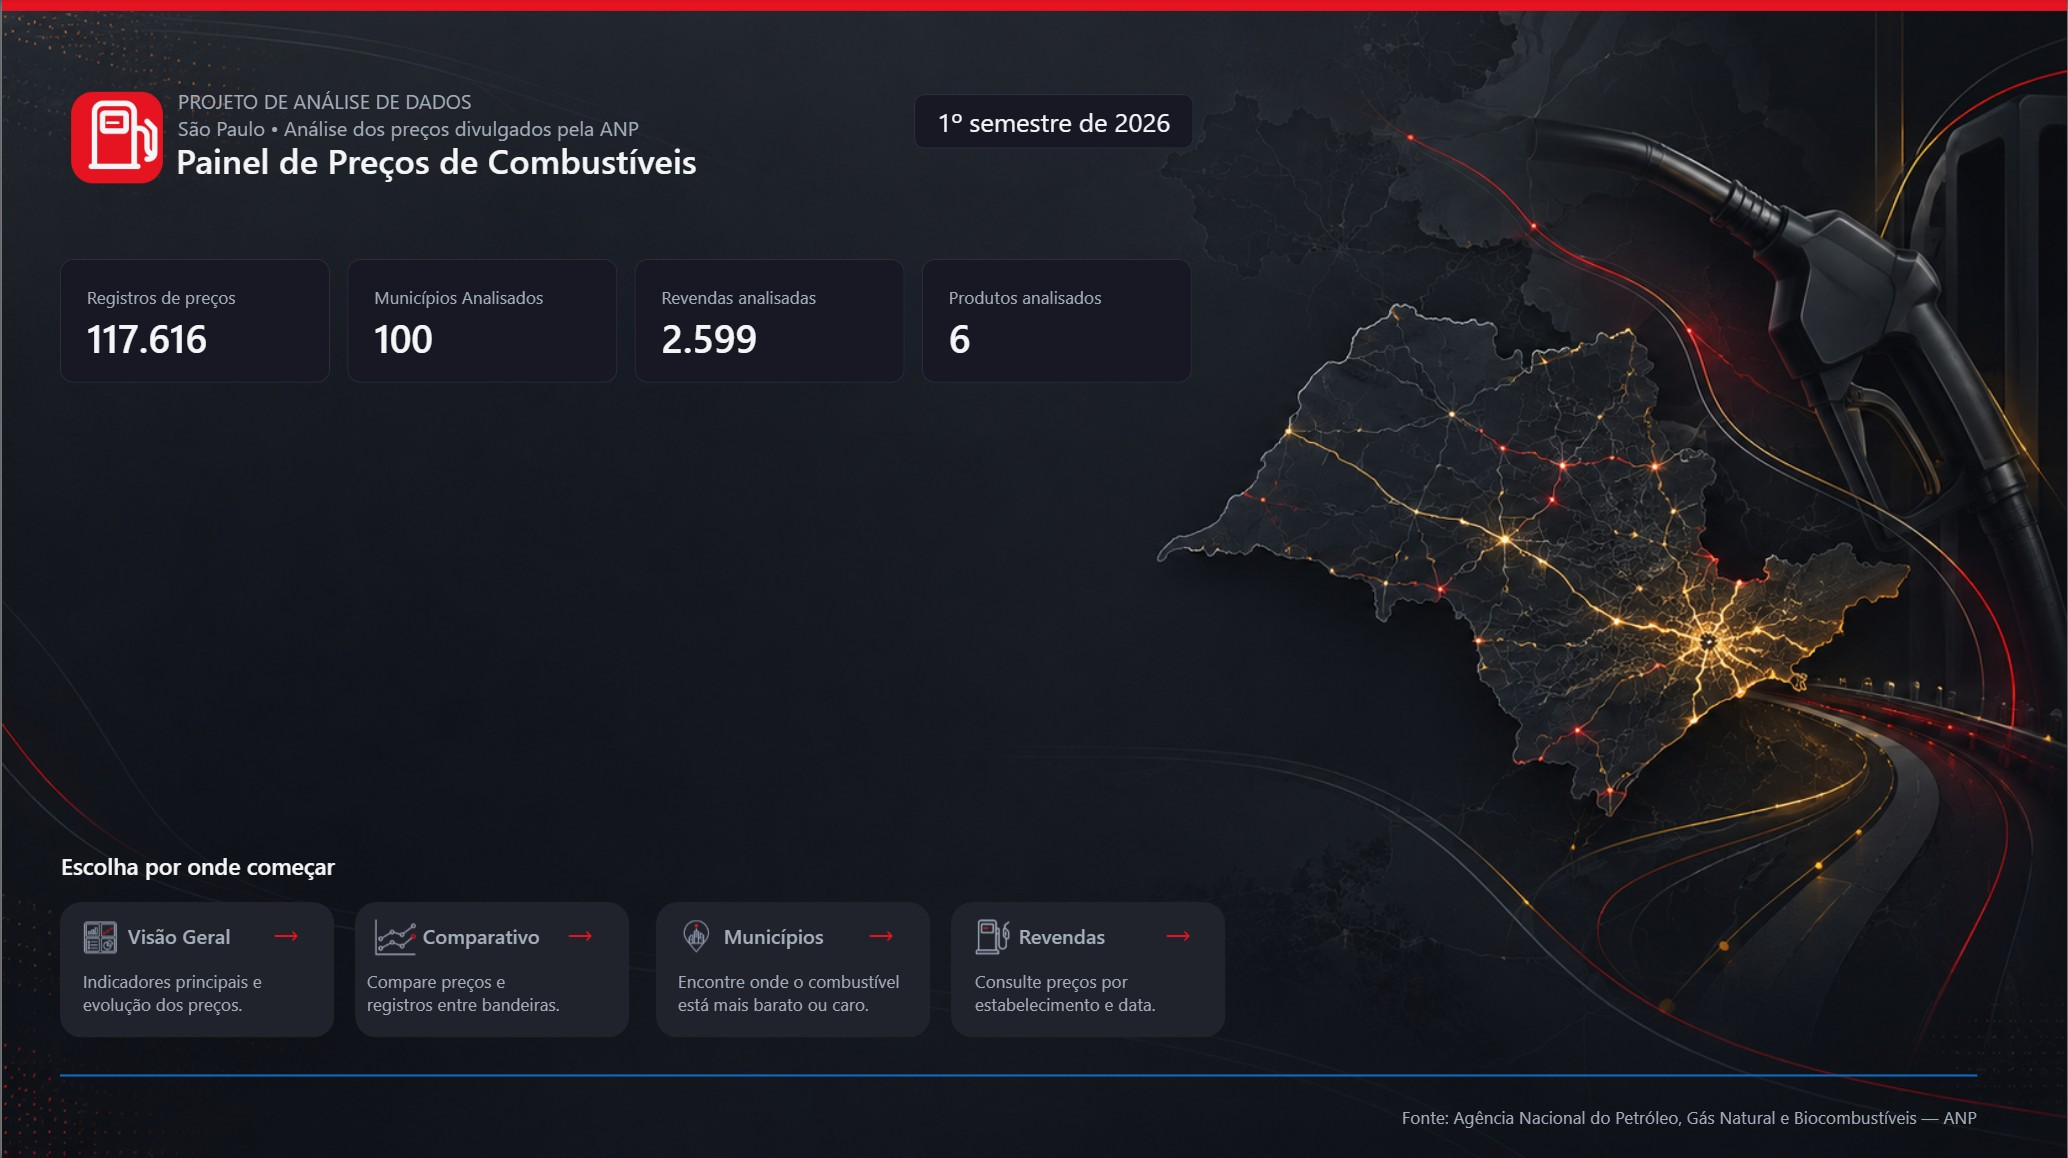

The dashboard page shown, as its layout file describes it:
{"tool":"powerbi","page":{"name":"Início","canvas":[1920,1080],"ordinal":0},"visuals":[{"type":"shape","title":"Enfeite","box":[0,0,1920,12.1],"z":0},{"type":"actionButton","title":"Botão visão geral","box":[54,840,255,126],"z":0,"group":"g1"},{"type":"actionButton","title":"Botão comparativo","box":[328,840,255,126],"z":0,"group":"g2"},{"type":"actionButton","title":"Botão municípios","box":[608,840,255,126],"z":0,"group":"g3"},{"type":"actionButton","title":"Botão revenda","box":[882,840,255,126],"z":0,"group":"g4"},{"type":"image","title":"Logo","box":[54,83,106,94],"z":1000},{"type":"textbox","box":[512,846,50,44],"z":1000,"group":"g2"},{"type":"textbox","box":[792,846,50,44],"z":1000,"group":"g3"},{"type":"textbox","box":[1068,846,50,44],"z":1000,"group":"g4"},{"type":"textbox","box":[75,903,189,44],"z":1000,"group":"g1"},{"type":"cardVisual","title":"Cartões","fields":{"Data":["Medidas.total_registros","Count(dim_revenda.municipio)","Medidas.total_revendas","Medidas.total_produtos"]},"box":[54,243,1054,115],"z":2000},{"type":"textbox","box":[239,846,50,44],"z":2000,"group":"g1"},{"type":"textbox","box":[339,903,189,44],"z":2000,"group":"g2"},{"type":"textbox","box":[628,903,223,44],"z":2000,"group":"g3"},{"type":"textbox","box":[904,903,189,44],"z":2000,"group":"g4"},{"type":"textbox","title":"Informação","box":[164,83,348,36],"z":3000},{"type":"textbox","title":"Informação","box":[162,128,578,58],"z":4000},{"type":"textbox","title":"Informação","box":[164,108,455,36],"z":5000},{"type":"shape","title":"Semestre","box":[848,89,259.8,50.7],"z":6000},{"type":"textbox","title":"Fonte","box":[1281,1030,555,28],"z":8000},{"type":"shape","title":"Linha inferior","box":[54,995,1782,12],"z":9000},{"type":"group","id":"g1","title":"Botão Visão Geral","box":[54,840,255,126],"z":10000,"group":"g5"},{"type":"group","id":"g2","title":"Botão Comparativo","box":[328,840,255,126],"z":11000,"group":"g5"},{"type":"group","id":"g3","title":"Botão Municípios","box":[608,840,255,126],"z":12000,"group":"g5"},{"type":"group","id":"g4","title":"Botão Revendas","box":[882,840,255,126],"z":13000,"group":"g5"},{"type":"group","id":"g5","title":"Botões gerais","box":[54,792,1083,174],"z":13001},{"type":"textbox","title":"Informação","box":[55,792,284,37],"z":13500,"group":"g5"}]}

Visuals, with their boxes in screenshot pixels (x1, y1, x2, y2), scaled from the page's 1920x1080 canvas onto the 2068x1158 screenshot:
"Enfeite" shape: l=0, t=0, r=2067, b=13
"Botão visão geral" actionButton: l=58, t=901, r=333, b=1036
"Botão comparativo" actionButton: l=353, t=901, r=628, b=1036
"Botão municípios" actionButton: l=655, t=901, r=930, b=1036
"Botão revenda" actionButton: l=950, t=901, r=1225, b=1036
"Logo" image: l=58, t=89, r=172, b=190
textbox: l=551, t=907, r=605, b=954
textbox: l=853, t=907, r=907, b=954
textbox: l=1150, t=907, r=1204, b=954
textbox: l=81, t=968, r=284, b=1015
"Cartões" cardVisual: l=58, t=261, r=1193, b=384
textbox: l=257, t=907, r=311, b=954
textbox: l=365, t=968, r=569, b=1015
textbox: l=676, t=968, r=917, b=1015
textbox: l=974, t=968, r=1177, b=1015
"Informação" textbox: l=177, t=89, r=551, b=128
"Informação" textbox: l=174, t=137, r=797, b=199
"Informação" textbox: l=177, t=116, r=667, b=154
"Semestre" shape: l=913, t=95, r=1193, b=150
"Fonte" textbox: l=1380, t=1104, r=1978, b=1134
"Linha inferior" shape: l=58, t=1067, r=1978, b=1080
"Botão Visão Geral" group: l=58, t=901, r=333, b=1036
"Botão Comparativo" group: l=353, t=901, r=628, b=1036
"Botão Municípios" group: l=655, t=901, r=930, b=1036
"Botão Revendas" group: l=950, t=901, r=1225, b=1036
"Botões gerais" group: l=58, t=849, r=1225, b=1036
"Informação" textbox: l=59, t=849, r=365, b=889
